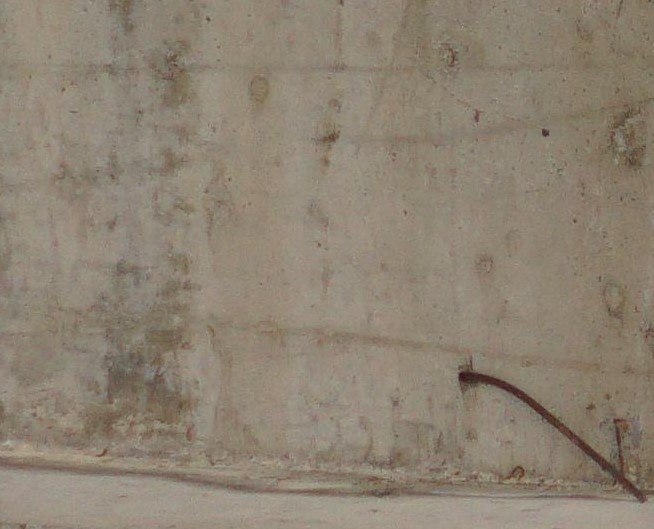Exposed reinforcement: (457, 370, 648, 504)
